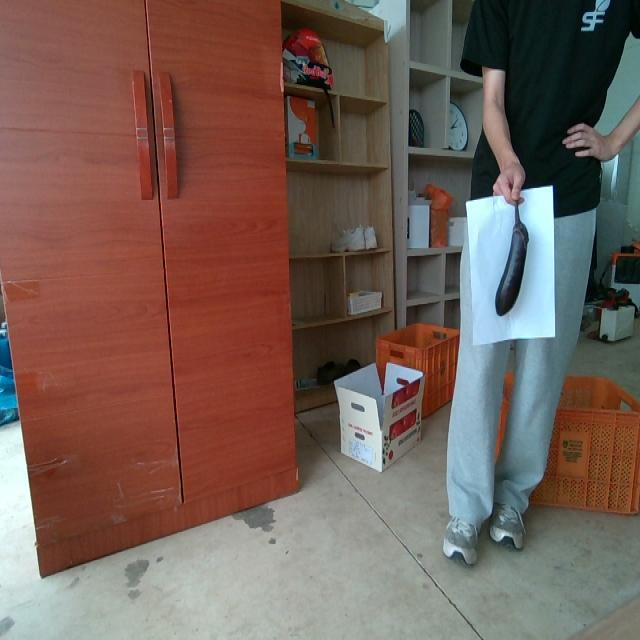Egg plant: (495, 203, 528, 315)
